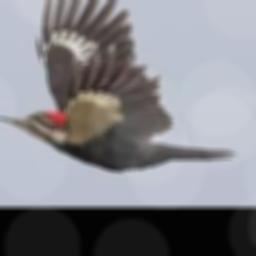Woodpecker: (0, 0, 237, 170)
